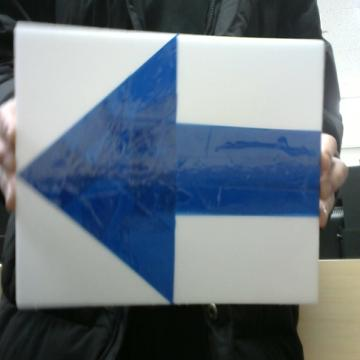blue_left: (20, 37, 320, 302)
